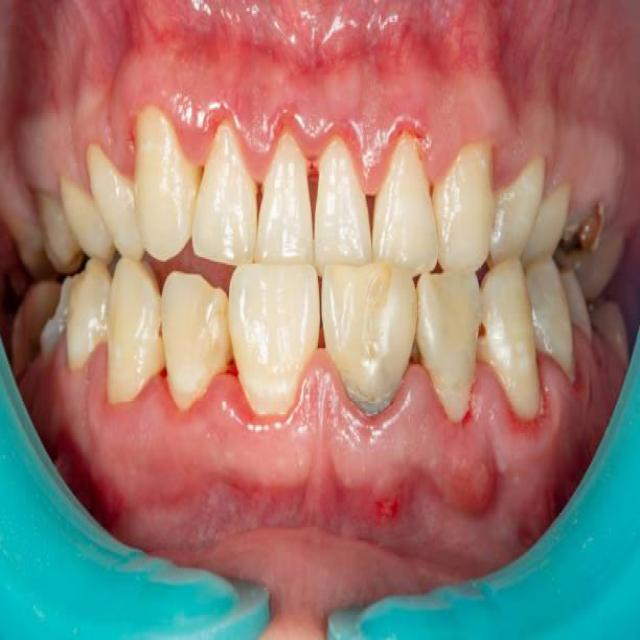caries: (554, 192, 608, 282)
